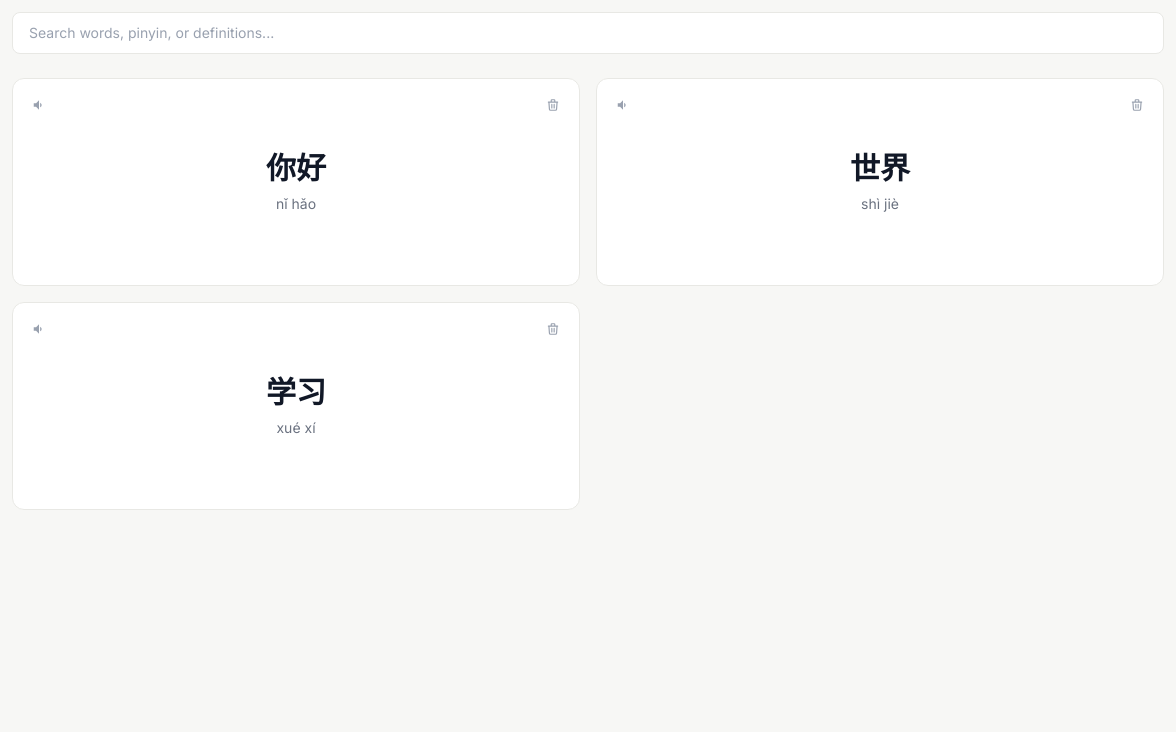
FlashcardBrowse › search filters by Chinese word
Type "你好" into the field with placeholder "Search words, pinyin, or definitions..." at (588, 33), box [12, 12, 1164, 54]
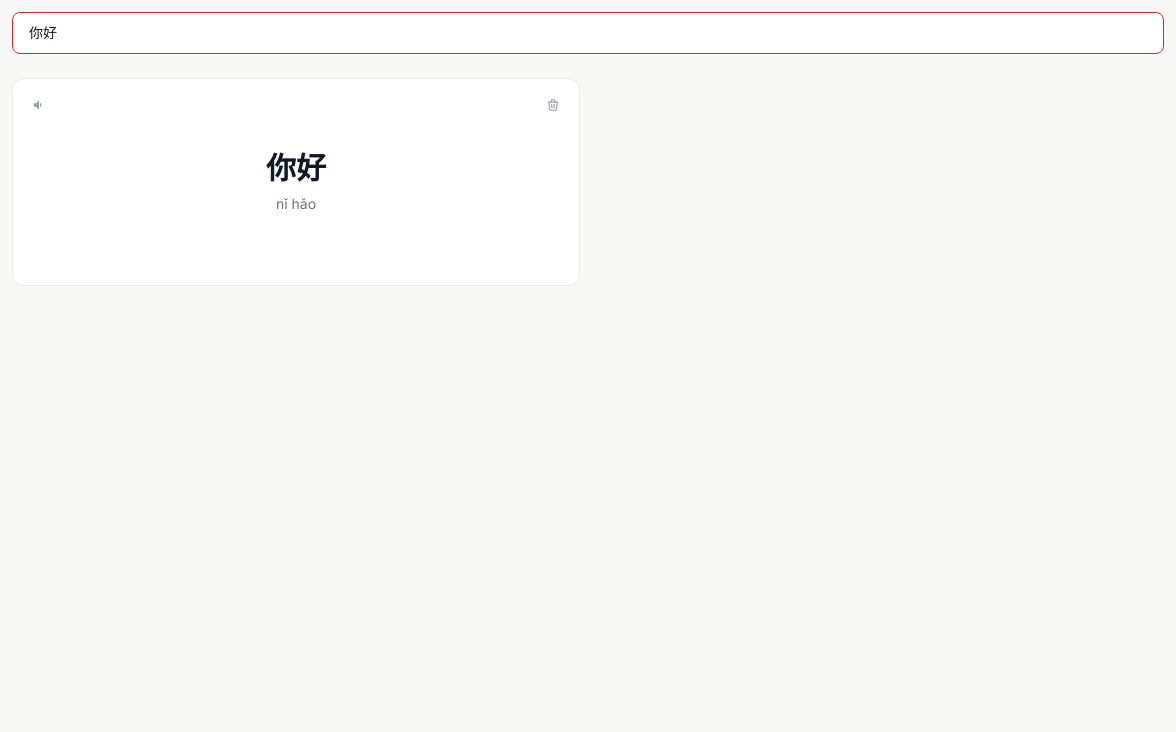
Expected: the text "你好" is shown, [266, 150, 326, 186]
Expected: the text "世界" is gone
Expected: the text "学习" is gone
